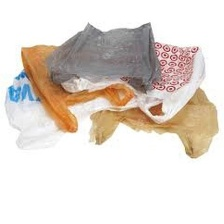plastic_bag: (59, 30, 217, 118), (12, 36, 143, 135), (83, 78, 219, 161), (2, 61, 117, 153), (38, 18, 165, 86)
